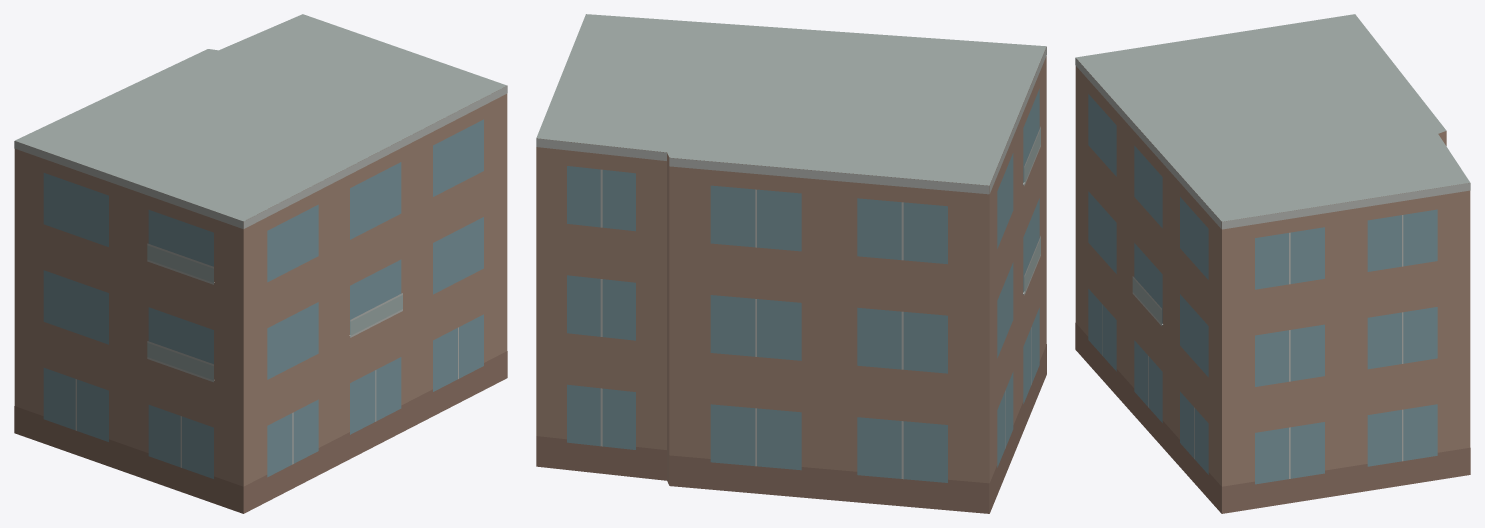
The model's file is survey-upis-32761942.glb.
3 views of the same model, side by side, from view 1: azimuth 30°, elevation 25°; view 2: azimuth 150°, elevation 25°; view 3: azimuth 270°, elevation 25° (orthographic). The views are drawn at different scales.
Visible parts, largest first — view 1: survey-upis-32761942.tmp; view 2: survey-upis-32761942.tmp; view 3: survey-upis-32761942.tmp.
Part boxes in pixels (<box>): survey-upis-32761942.tmp: <box>14,14,507,513</box>; survey-upis-32761942.tmp: <box>536,14,1046,513</box>; survey-upis-32761942.tmp: <box>1075,14,1470,513</box>.
Bounding box in the file's own units: 13.97 × 9.15 × 11.22.
